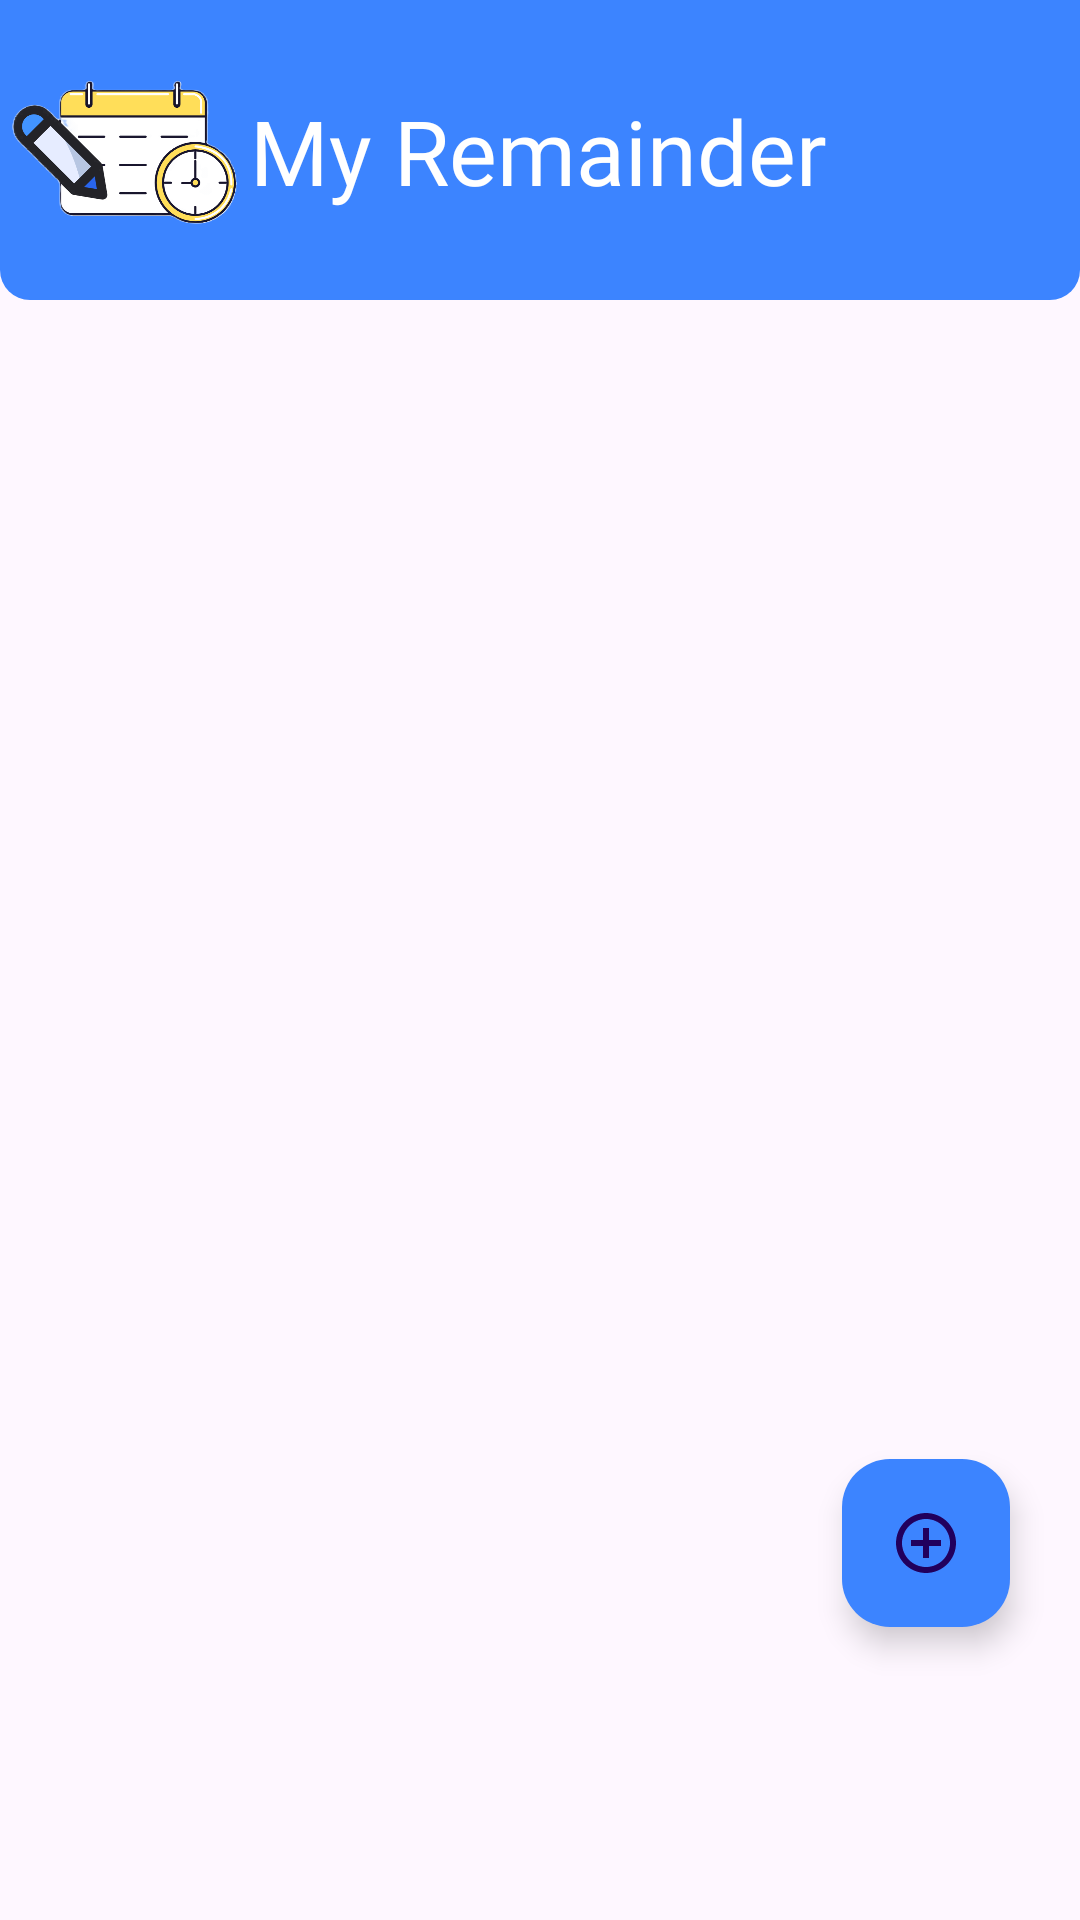

Locate icon controls on the screen. Image size 1080px×1920px, boxes as box(x1, y1, x2, y2).
add: box(842, 1459, 1010, 1627)
